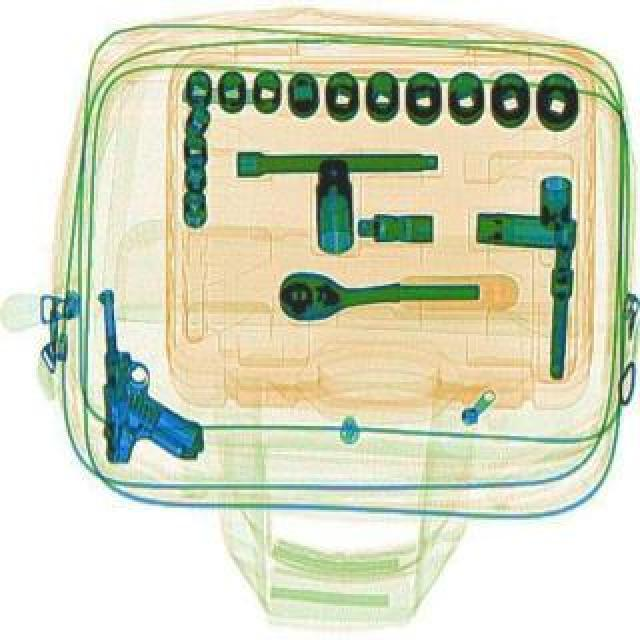gun: (94, 288, 210, 468)
